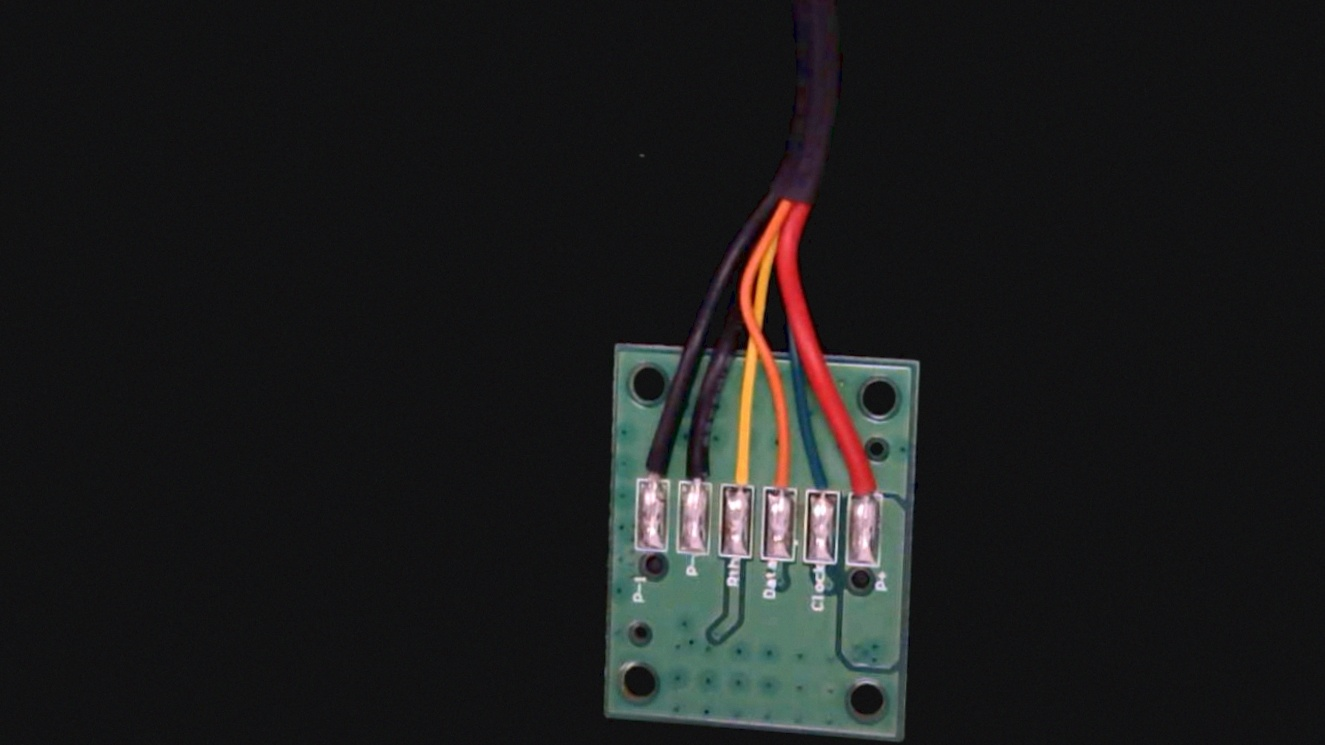Black: (675, 426, 721, 499)
Black1: (633, 419, 674, 498)
Green: (802, 439, 842, 514)
Orange: (761, 424, 802, 509)
Red: (847, 432, 890, 515)
Yellow: (719, 430, 759, 506)
